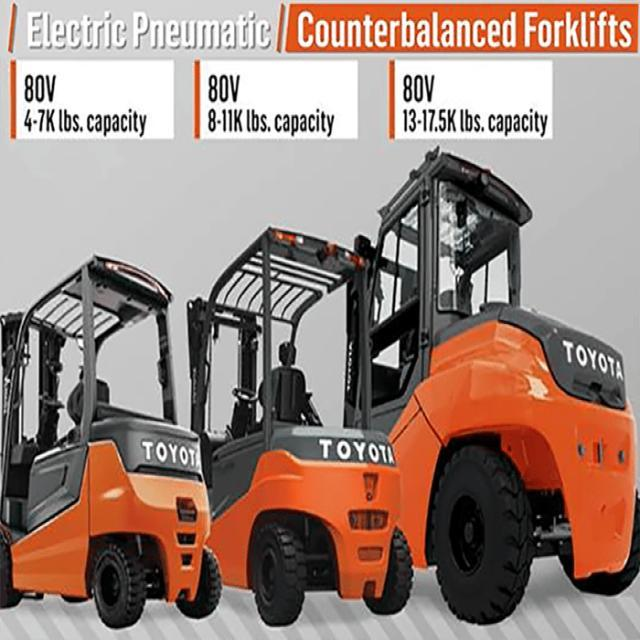forklift: (382, 153, 632, 632), (182, 220, 374, 634), (6, 258, 181, 626)
